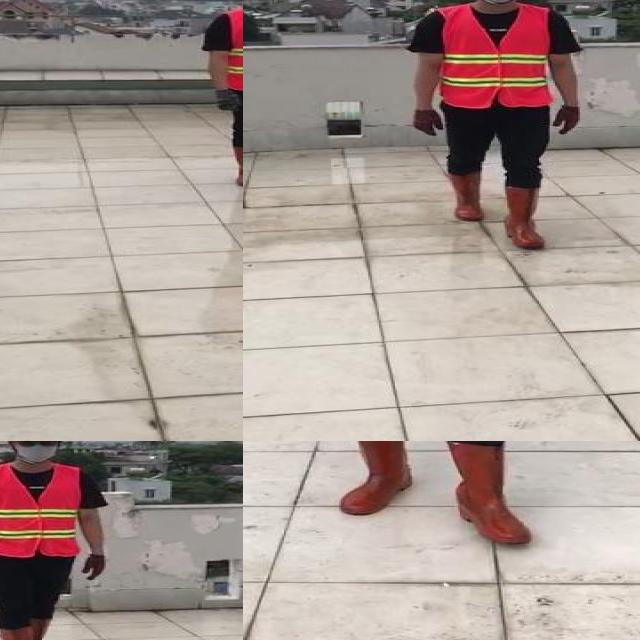boots: (450, 442, 528, 544), (339, 441, 410, 516), (502, 184, 548, 250), (446, 172, 486, 222), (28, 616, 60, 640), (233, 142, 243, 188), (0, 628, 38, 640)
face_mask: (13, 441, 59, 461)
glasses: (14, 441, 62, 448)
hand_glove: (413, 106, 443, 135), (553, 105, 582, 135), (83, 555, 108, 583), (214, 91, 242, 111)
person: (401, 0, 591, 258), (243, 441, 606, 559), (0, 441, 117, 640), (198, 0, 243, 205)
vest: (439, 5, 555, 108), (0, 465, 79, 559), (222, 9, 243, 89)
